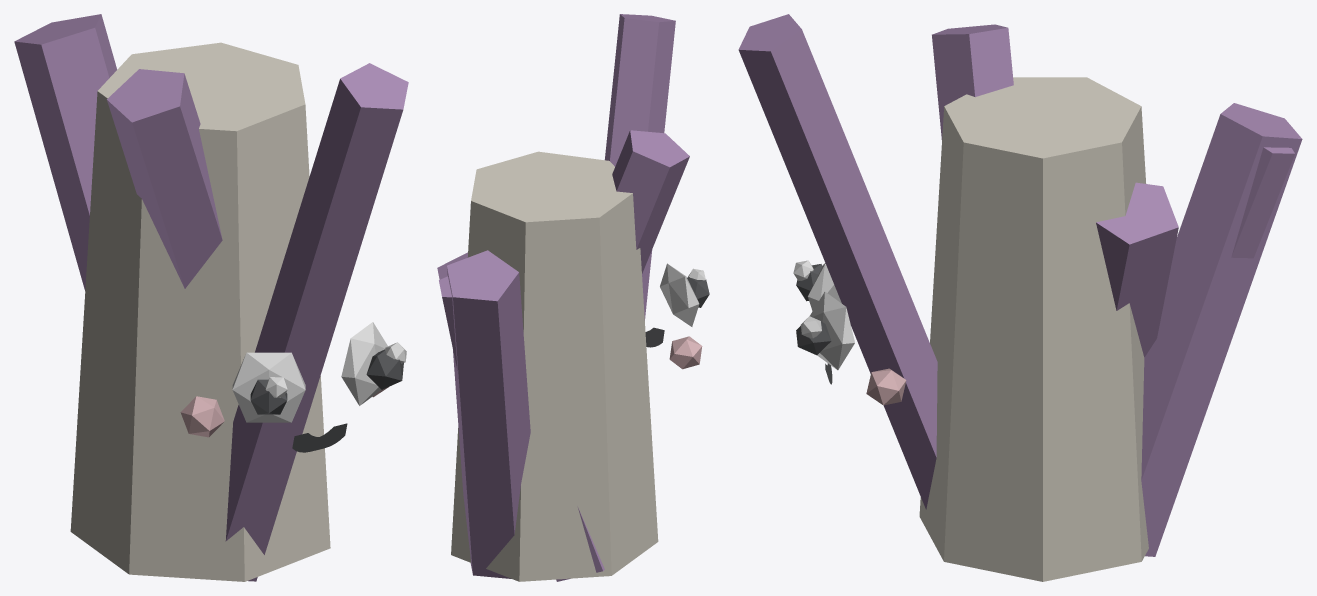
The model's file is xylaria-flabelliformis.glb.
3 views of the same model, side by side, from view 1: azimuth 30°, elevation 25°; view 2: azimuth 150°, elevation 25°; view 3: azimuth 270°, elevation 25° (orthographic). The views are drawn at different scales.
Visible parts, largest first — view 1: stalk, branch3, branch2, branch1, pface-eye-r, pface-eye-l, pface-blush--1, pface-pupil-l, pface-smile, pface-pupil-r; view 2: stalk, branch1, branch3, branch2, pface-eye-r, pface-blush--1, branch0, branch5, pface-pupil-r; view 3: stalk, branch3, branch1, branch0, branch2, branch5, pface-eye-l, pface-blush-1.
Boxes of the visible parts, bbox=[...] form: stalk: bbox=[70, 42, 330, 581]; branch3: bbox=[225, 63, 408, 581]; branch2: bbox=[107, 69, 222, 288]; branch1: bbox=[14, 14, 117, 290]; pface-eye-r: bbox=[232, 352, 305, 422]; pface-eye-l: bbox=[341, 322, 387, 405]; pface-blush--1: bbox=[180, 396, 224, 437]; pface-pupil-l: bbox=[366, 349, 403, 389]; pface-smile: bbox=[292, 423, 347, 452]; pface-pupil-r: bbox=[250, 379, 287, 414]; stalk: bbox=[451, 151, 658, 581]; branch1: bbox=[447, 250, 530, 578]; branch3: bbox=[604, 14, 675, 320]; branch2: bbox=[612, 130, 689, 273]; pface-eye-r: bbox=[660, 263, 699, 326]; pface-blush--1: bbox=[669, 336, 702, 369]; branch0: bbox=[437, 252, 604, 581]; branch5: bbox=[439, 276, 457, 370]; pface-pupil-r: bbox=[687, 276, 709, 307]; stalk: bbox=[919, 77, 1148, 581]; branch3: bbox=[738, 14, 937, 509]; branch1: bbox=[1141, 103, 1302, 556]; branch0: bbox=[1096, 182, 1178, 357]; branch2: bbox=[932, 24, 1013, 139]; branch5: bbox=[1231, 147, 1294, 258]; pface-eye-l: bbox=[810, 292, 854, 370]; pface-blush-1: bbox=[866, 368, 906, 405].
Bounding box in the file's own units: 0.103 × 0.2311 × 0.2229.
